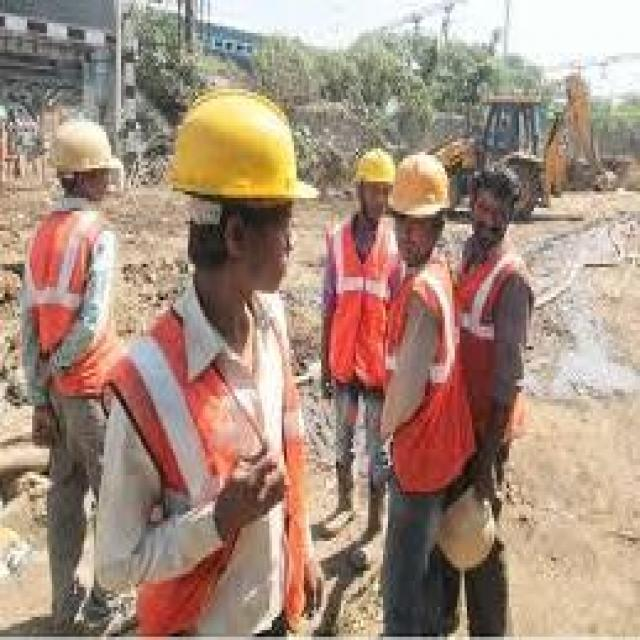Reflective-Jacket: (109, 290, 309, 630), (10, 198, 128, 406), (376, 251, 474, 498), (447, 237, 541, 429), (316, 211, 401, 396)
Safety-Helmet: (153, 72, 324, 228), (42, 106, 129, 192), (381, 142, 462, 231), (346, 139, 400, 201)
